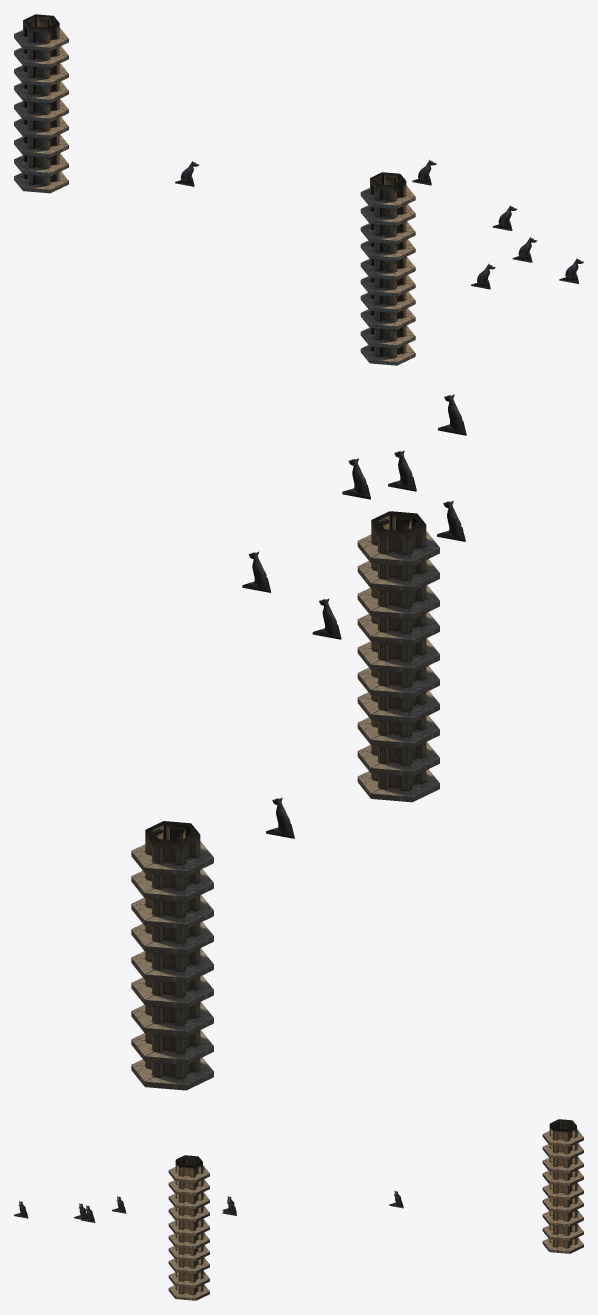
File: pegaso_031.dae
3 views of the same model, one above another, from view 1: azimuth 30°, elevation 25°; view 2: azimuth 150°, elevation 25°; view 3: azimuth 270°, elevation 25° (orthographic). The views are drawn at different scales.
Visible parts, largest first — view 1: torre06 (×2); view 2: torre04 (×9); view 3: torre02 (×2).
Part boxes in pixels (x1,y1,x2,y2): torre06 (×2): [23, 26, 396, 208]; torre04 (×9): [145, 529, 412, 1064]; torre02 (×2): [175, 1128, 569, 1182].
Size of the model in its own units: 3389 by 2777 by 10905.
Materials: 8 (8 with a texture image).
